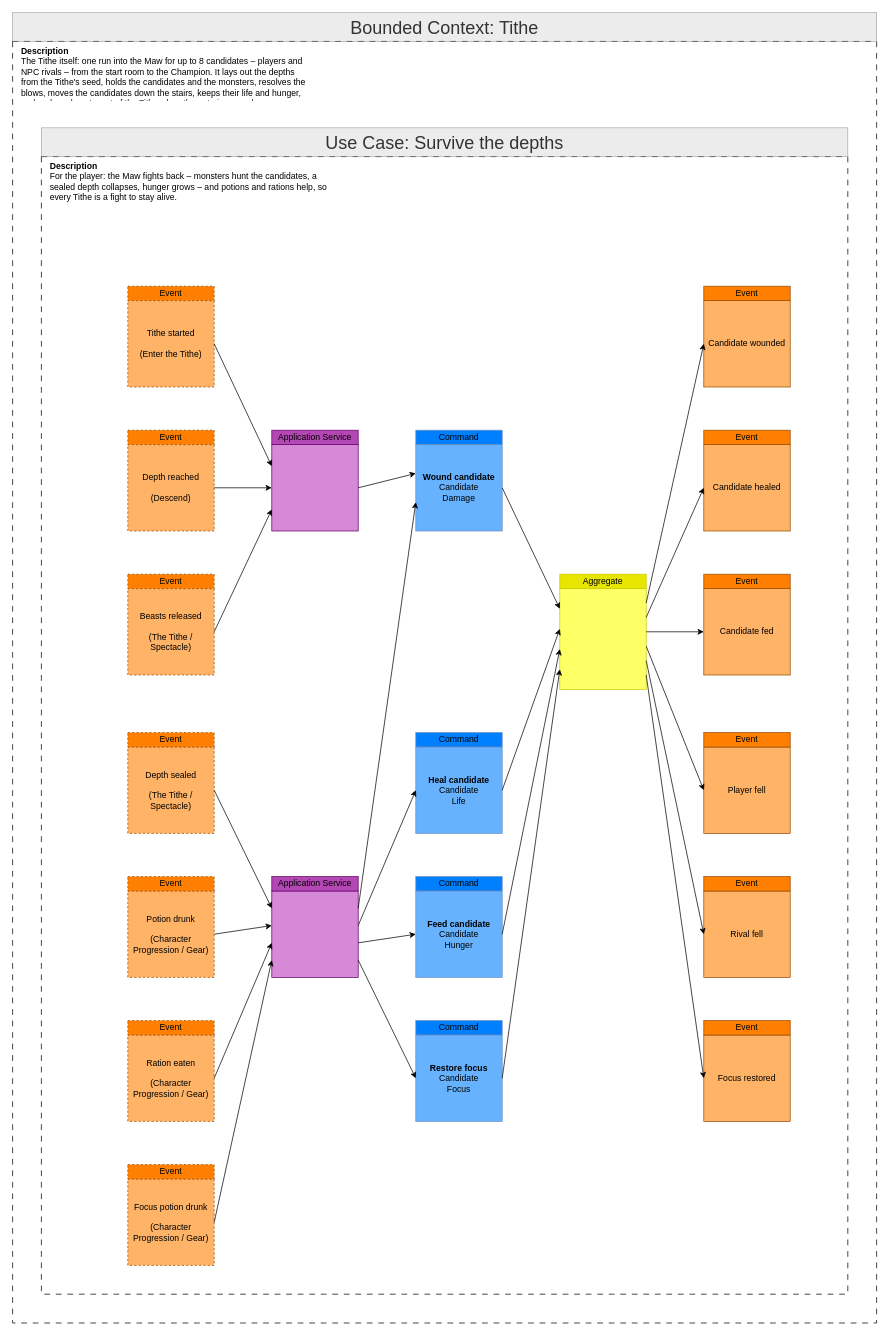
This 889x1336 diagram has some shape labels left out. The shapes that lost their labels are listed below. From the top down, each one's centre as x and y in pixels, then its label:
At point (314, 487): "Monsters".
At point (602, 638): "Tithe Candidates (many) · Name · Life · Focus · Hunger · Status".
At point (314, 933): "Condition keeper".
